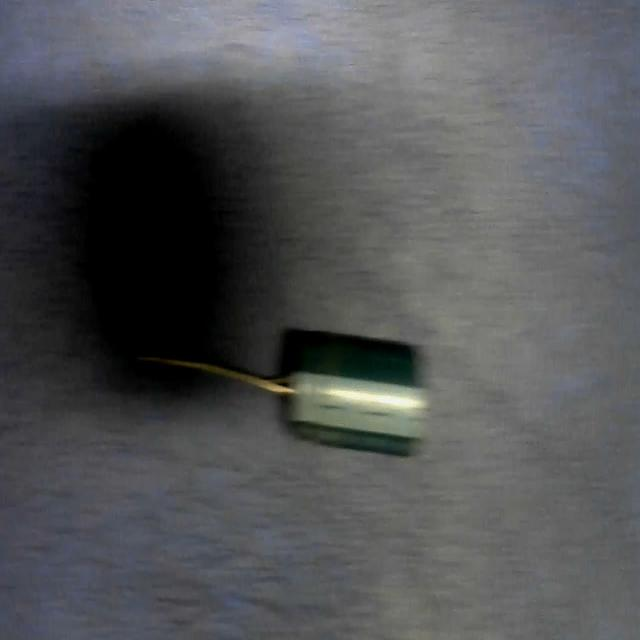capacitor: (165, 335, 432, 452)
